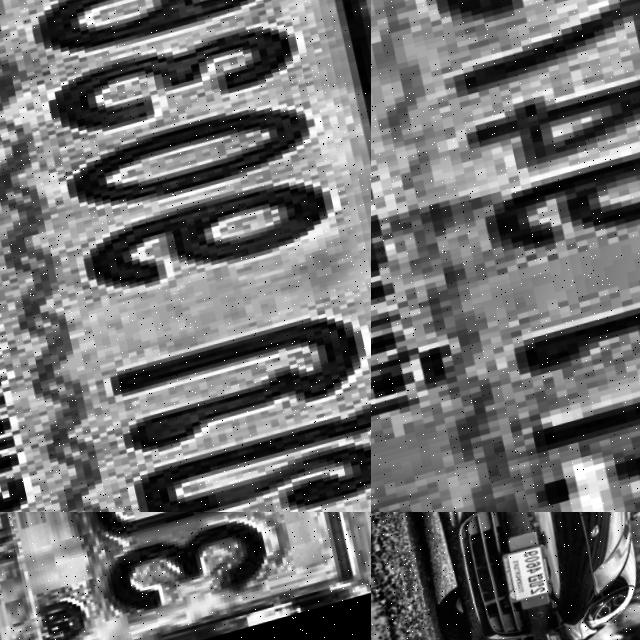license-plate: (0, 0, 371, 512), (371, 0, 640, 512), (0, 512, 371, 640), (501, 545, 557, 608)
